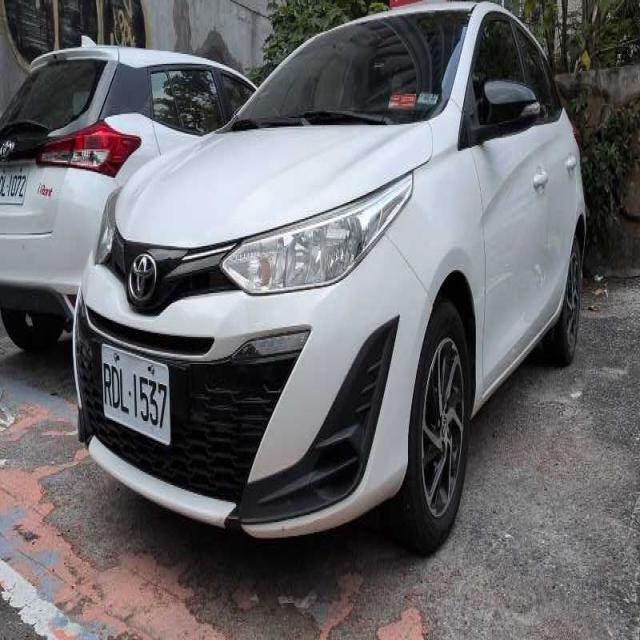license plate: (98, 346, 170, 445)
wheel: (385, 293, 471, 553)
